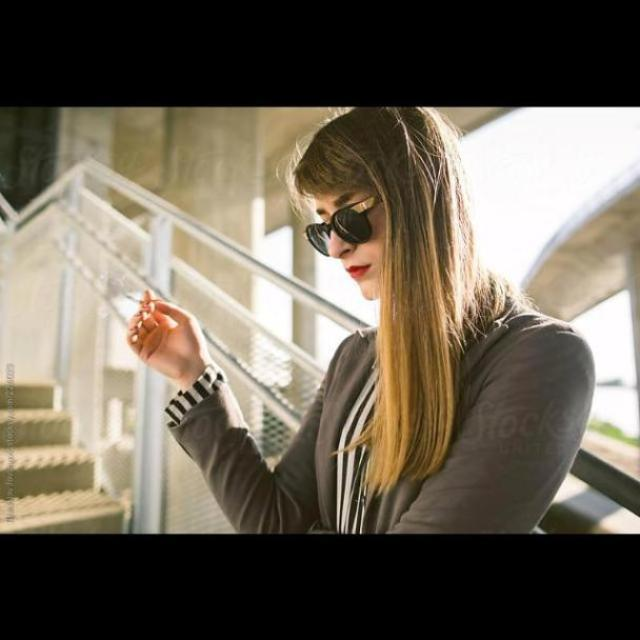rokok: (120, 290, 152, 306)
